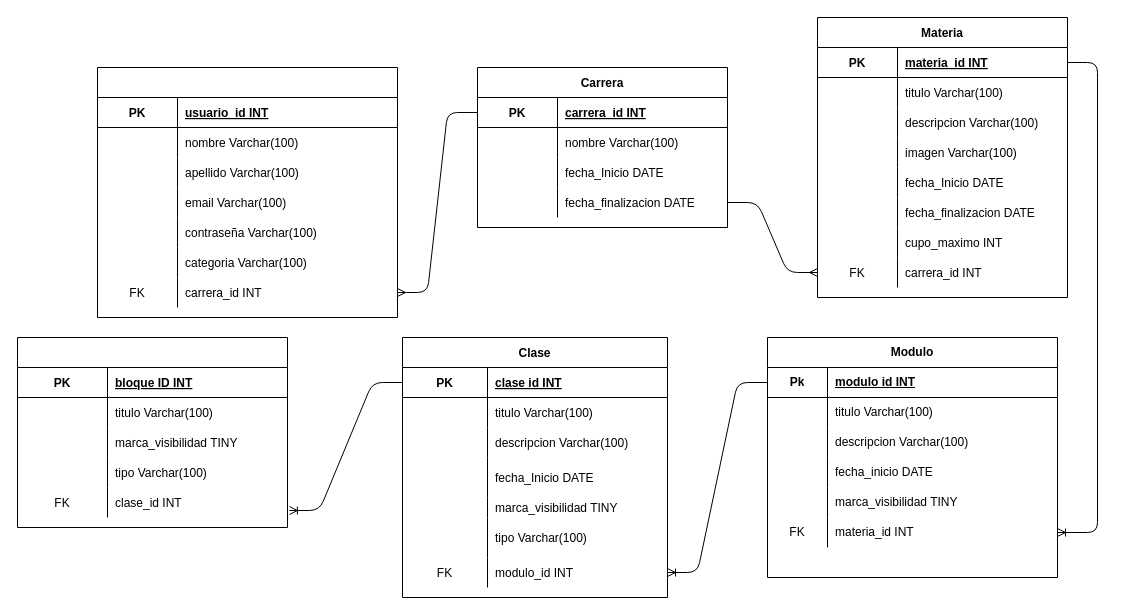
Some shapes in this 1123 by 615 pixel diagram are drawn without their labels. The shapes that lost their labels are listed below. From the top down, each one's box as (x1, y1, x2, y2) in pixels, then its label:
(96, 66, 398, 318): Usuarios
(16, 336, 288, 528): Bloques
